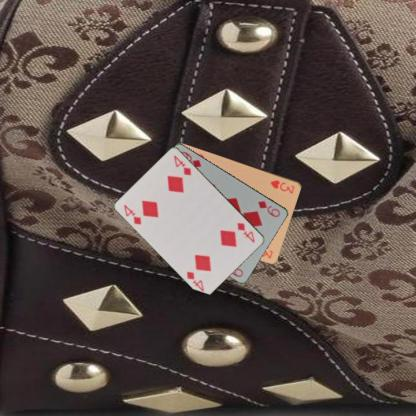3h: (268, 177, 296, 195)
4d: (121, 202, 143, 226), (235, 220, 256, 244)
9d: (256, 198, 282, 218)
